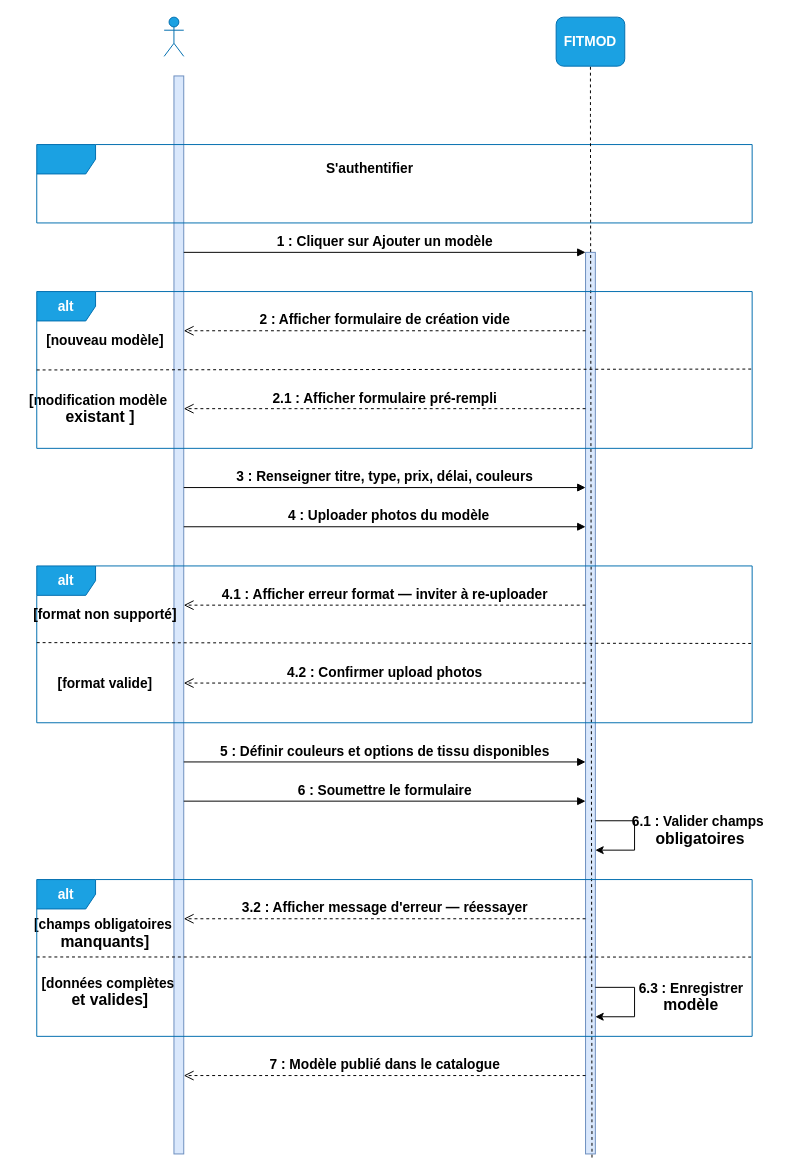
This 793x1176 diagram has some shape labels left out. Each missing label, with the box of its shape:
ref: (36, 144, 752, 223)
Tailleur: (163, 16, 184, 56)
